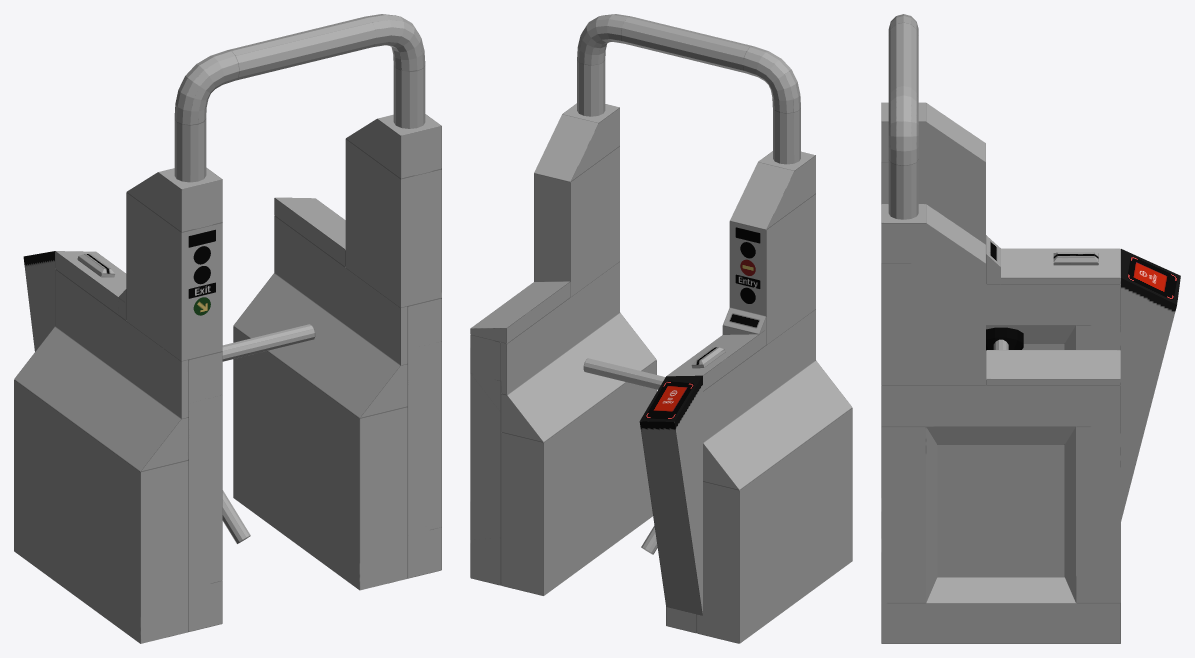
The model's file is nyc_subway_fare_gate_1_exit_closed.obj.
3 views of the same model, side by side, from view 1: azimuth 30°, elevation 25°; view 2: azimuth 150°, elevation 25°; view 3: azimuth 270°, elevation 25° (orthographic). The views are drawn at different scales.
Parts seen in each view (by area): view 1: right, left, top, cube, turnstile; view 2: left, right, cube, top, turnstile; view 3: left, right, cube, top, turnstile.
Part boxes in pixels (box(x1,y1,x2,y2)): right: box(14, 167, 222, 643); left: box(233, 114, 441, 590); top: box(174, 14, 425, 182); cube: box(23, 251, 55, 351); turnstile: box(222, 324, 315, 543); left: box(470, 103, 656, 595); right: box(666, 151, 852, 643); cube: box(639, 375, 702, 615); top: box(577, 14, 800, 164); turnstile: box(583, 358, 665, 554); left: box(881, 204, 1120, 643); right: box(881, 102, 1120, 350); cube: box(1121, 249, 1180, 521); top: box(888, 14, 918, 219); turnstile: box(986, 327, 1023, 350).
Size of the model in its own units: 1.38 by 2.44 by 1.25.
1 material, 1 textured.
